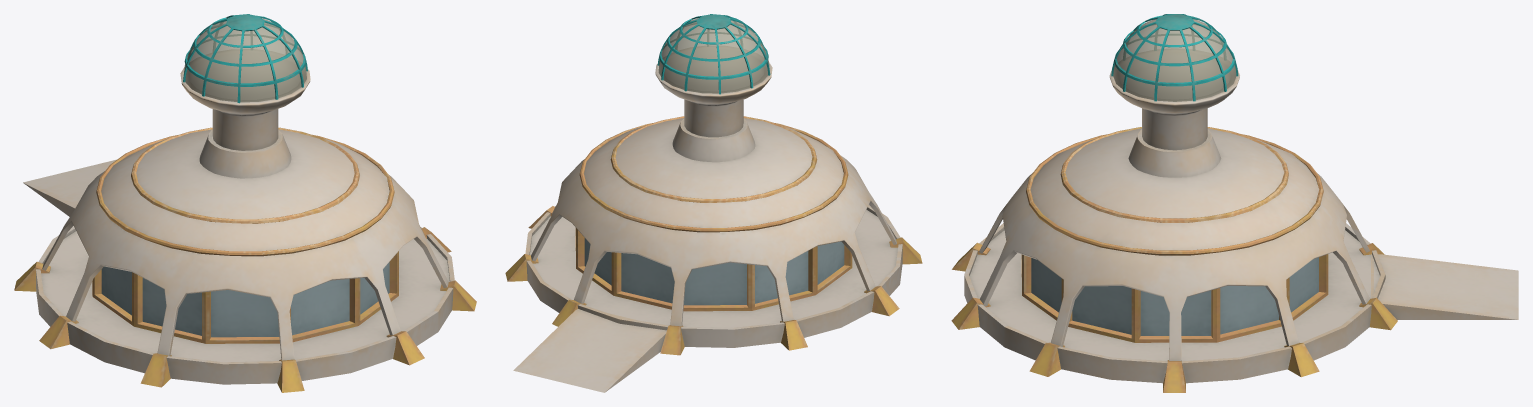
The model's file is SPA_1.glb.
3 renders of one model, left to right at view 1: azimuth 30°, elevation 25°; view 2: azimuth 150°, elevation 25°; view 3: azimuth 270°, elevation 25°, orthographic. The views are drawn at different scales.
Visible parts, largest first — view 1: spa1 (×5); view 2: spa1 (×5); view 3: spa1 (×5).
Boxes of the visible parts, bbox=[...] form: spa1 (×5): bbox=[14, 14, 476, 392]; spa1 (×5): bbox=[505, 14, 922, 392]; spa1 (×5): bbox=[951, 14, 1518, 392].
Bounding box in the file's own units: 7.53 × 4.95 × 9.24.
Materials: 5 (5 with a texture image).
